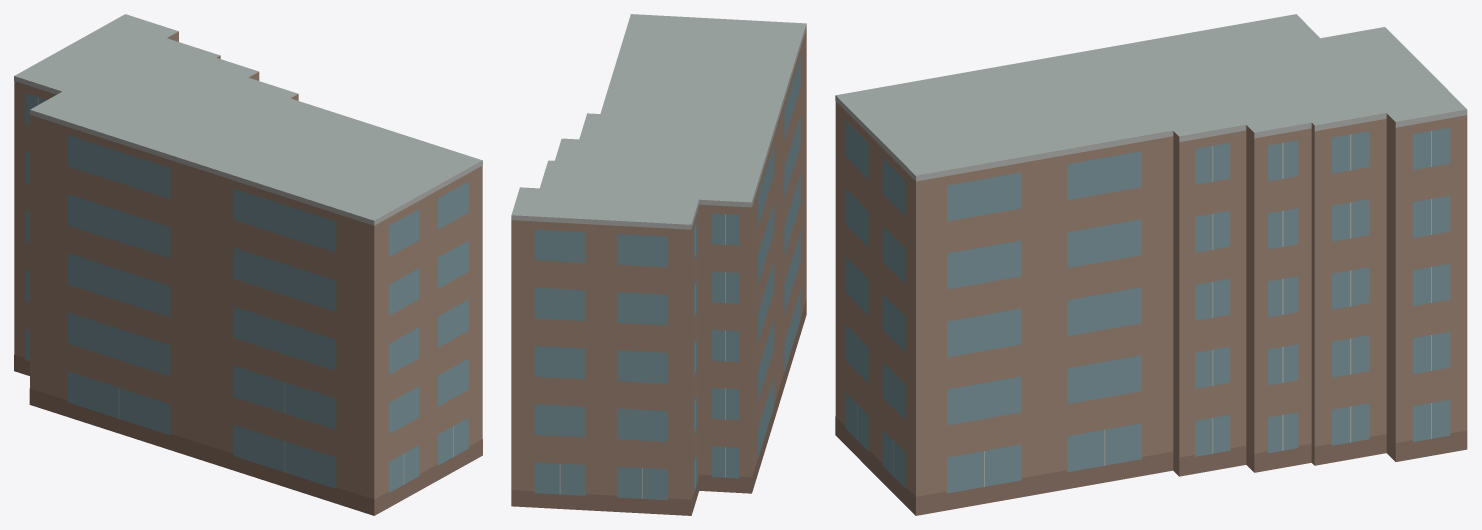
File: survey-upis-32595610.glb
3 renders of one model, left to right at view 1: azimuth 30°, elevation 25°; view 2: azimuth 150°, elevation 25°; view 3: azimuth 270°, elevation 25°, orthographic. The views are drawn at different scales.
Parts seen in each view (by area): view 1: survey-upis-32595610.tmp; view 2: survey-upis-32595610.tmp; view 3: survey-upis-32595610.tmp.
Boxes of the visible parts, box(x1,y1,x2,y2) form: survey-upis-32595610.tmp: box(14, 14, 482, 515); survey-upis-32595610.tmp: box(511, 14, 806, 515); survey-upis-32595610.tmp: box(835, 14, 1467, 515).
Size of the model in its own units: 14.81 by 14.5 by 24.42.
